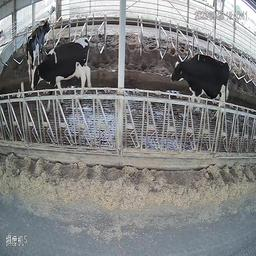cow: (159, 51, 226, 112), (23, 38, 82, 106), (25, 17, 51, 72)
